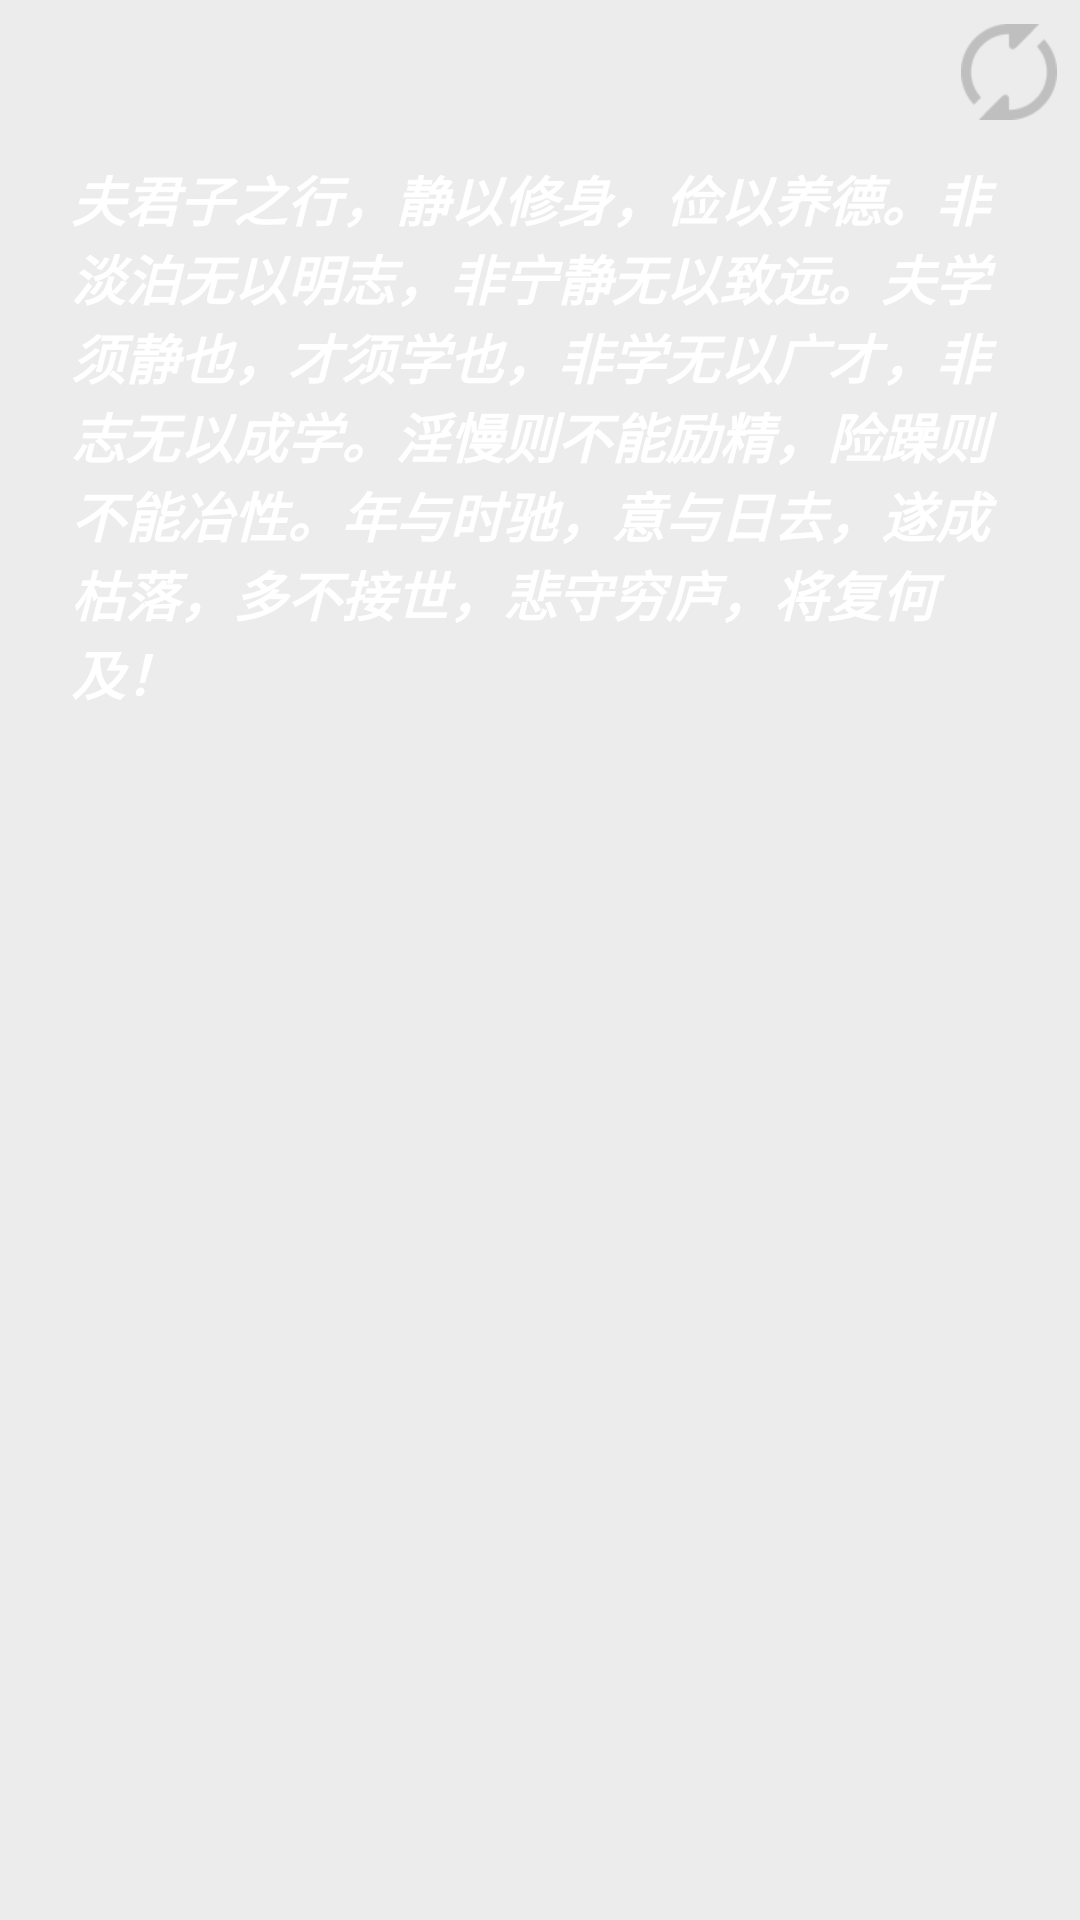

Named icons in this screenshot (1080px x 1920px) and their bounding boxes, bbox(x1, y1, x2, y2):
change: bbox(961, 24, 1057, 120)
